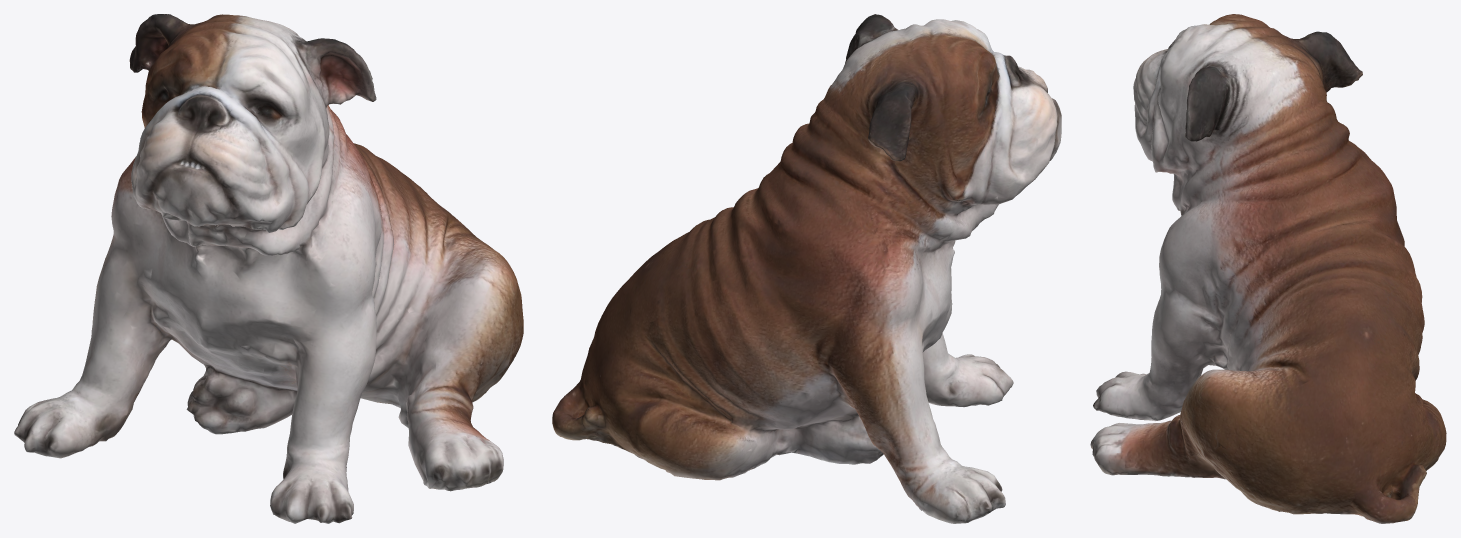
Rendered from bulldog_statue.glb.
3 renders of one model, left to right at view 1: azimuth 30°, elevation 25°; view 2: azimuth 150°, elevation 25°; view 3: azimuth 270°, elevation 25°, orthographic. The views are drawn at different scales.
Visible parts, largest first — view 1: Bulldog_low_res_0; view 2: Bulldog_low_res_0; view 3: Bulldog_low_res_0.
Part boxes in pixels (left/top/right/bottom): Bulldog_low_res_0: left=14, top=14, right=523, bottom=523; Bulldog_low_res_0: left=552, top=14, right=1061, bottom=523; Bulldog_low_res_0: left=1090, top=14, right=1446, bottom=523.
Bounding box in the file's own units: 0.4713 × 0.4291 × 0.3714.
1 material, 1 textured.
